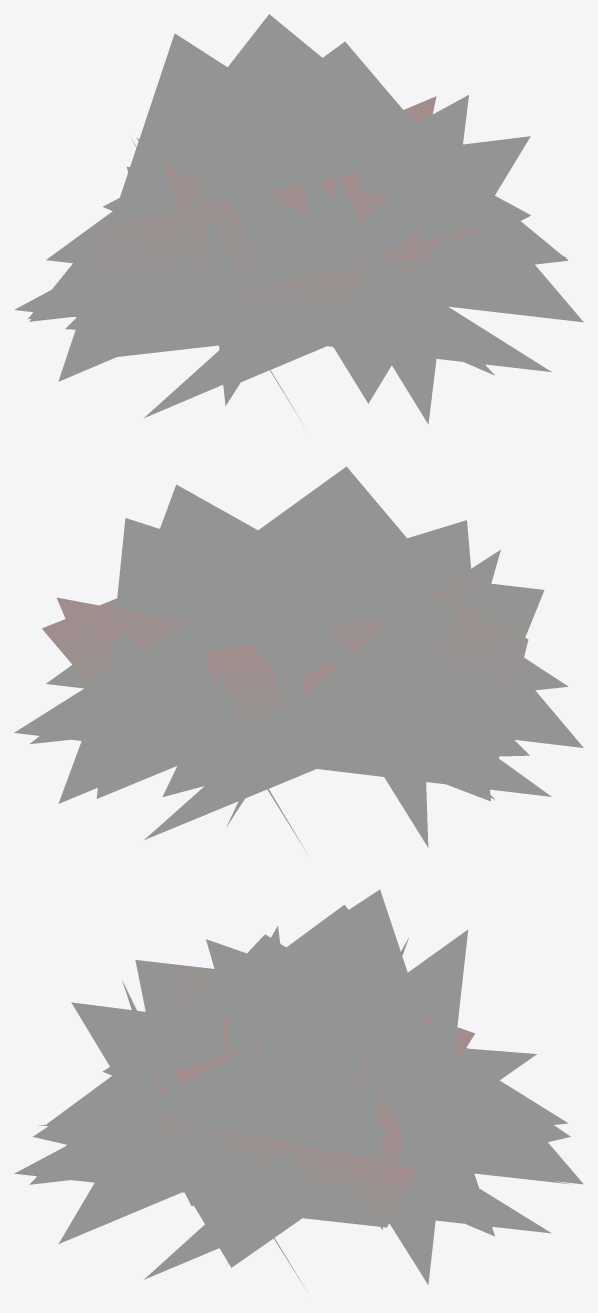
The picture shows the model from 3 angles, top to bottom: view 1: azimuth 30°, elevation 25°; view 2: azimuth 150°, elevation 25°; view 3: azimuth 270°, elevation 25°; orthographic projection.
Parts seen in each view (by area): view 1: G:\FFXIV-MapTools\exports\s1f1\bg\ffxiv\sea_s1\fld\s1f1\bgpa (×2); view 2: G:\FFXIV-MapTools\exports\s1f1\bg\ffxiv\sea_s1\fld\s1f1\bgpa (×2); view 3: G:\FFXIV-MapTools\exports\s1f1\bg\ffxiv\sea_s1\fld\s1f1\bgpa (×2).
Boxes of the visible parts, x1,y1,x2,y2 form: G:\FFXIV-MapTools\exports\s1f1\bg\ffxiv\sea_s1\fld\s1f1\bgpa (×2): (14,14,583,429); G:\FFXIV-MapTools\exports\s1f1\bg\ffxiv\sea_s1\fld\s1f1\bgpa (×2): (14,466,583,853); G:\FFXIV-MapTools\exports\s1f1\bg\ffxiv\sea_s1\fld\s1f1\bgpa (×2): (14,889,583,1288).
Bounding box in the file's own units: 3.91 × 2.09 × 3.91.
